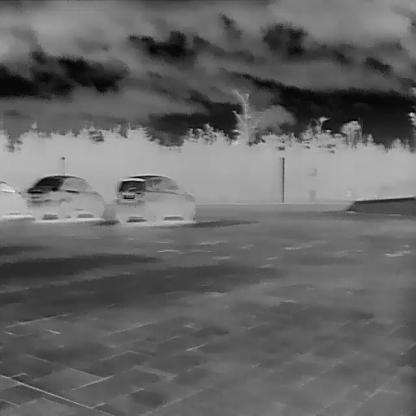car: (115, 173, 195, 224), (26, 173, 104, 222), (0, 178, 33, 223)
